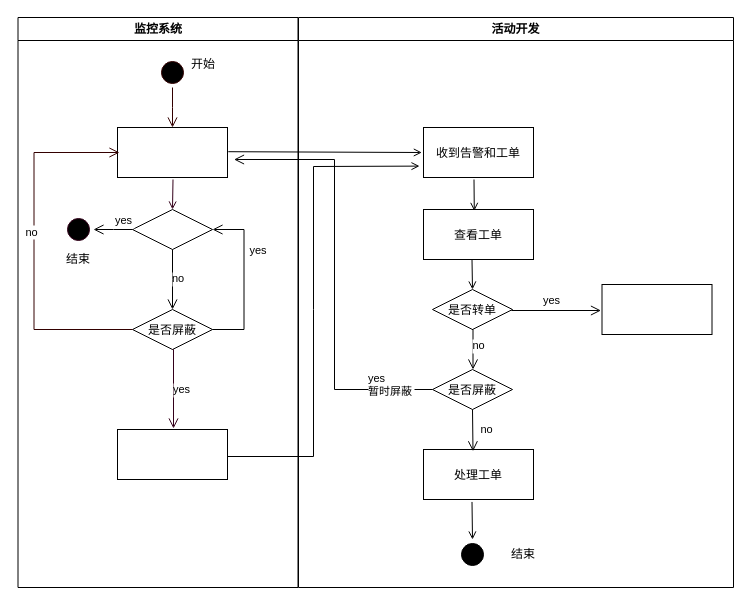
Image size: 751x605. Some labels were removed from this diagram. The box of each missing label's shape, as (x1, y1, x2, y2) in pixels:
催单: (116, 428, 228, 480)
告警并生成工单: (116, 126, 228, 178)
是否结单: (132, 208, 212, 250)
转单给他人: (601, 284, 712, 334)
